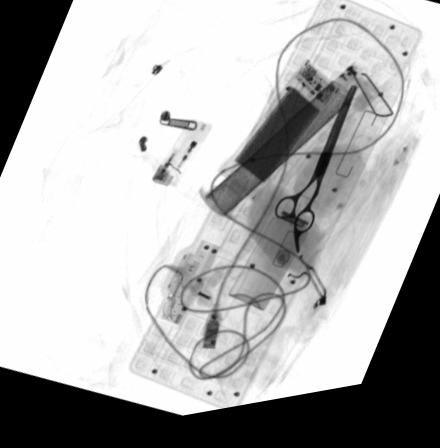Lighter: (154, 123, 214, 193)
Powerbank: (213, 69, 354, 214)
Scissors: (273, 96, 359, 268)
Sprayer: (228, 200, 318, 321)
